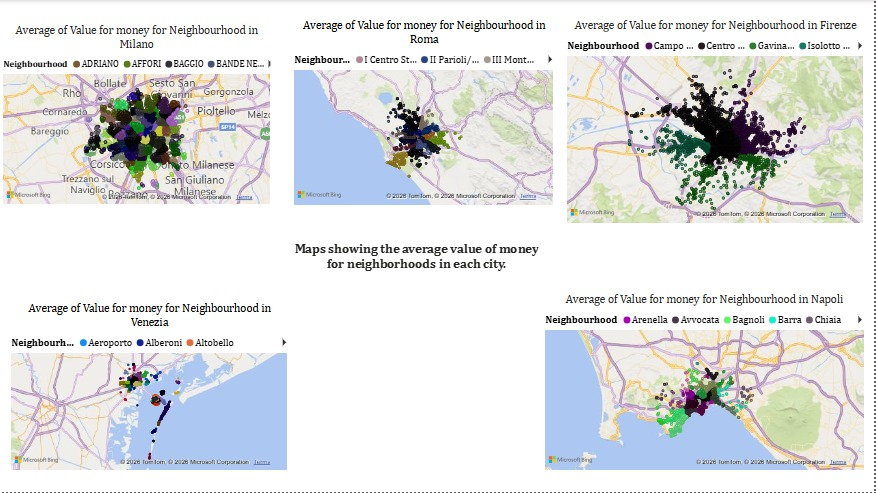

The page's visual inventory and layout, read from the dashboard file:
{"tool":"powerbi","page":{"name":"Page 5","canvas":[1280,720],"ordinal":4},"visuals":[{"type":"map","title":"Average of Value for money for Neighbourhood in Milano","fields":{"Series":["Airbnb.Neighbourhood"],"Y":["Airbnb.LATITUDE"],"X":["Airbnb.LONGITUDE"]},"box":[0,33.7,399.5,270.7],"z":0},{"type":"map","title":"Average of Value for money for  Neighbourhood in Napoli","fields":{"Series":["Airbnb.Neighbourhood"],"Y":["Airbnb.LATITUDE"],"X":["Airbnb.LONGITUDE"]},"box":[793.2,427.3,475.6,264.9],"z":1000},{"type":"map","title":"Average of Value for money for  Neighbourhood in Roma ","fields":{"Series":["Airbnb.Neighbourhood"],"Y":["Airbnb.LATITUDE"],"X":["Airbnb.LONGITUDE"]},"box":[425.9,26.3,389.3,278],"z":2000},{"type":"map","title":"Average of Value for money for  Neighbourhood in Venezia","fields":{"Series":["Airbnb.Neighbourhood"],"Y":["Airbnb.LATITUDE"],"X":["Airbnb.LONGITUDE"]},"box":[11.7,440.5,414.1,251.7],"z":3000},{"type":"map","title":"Average of Value for money for  Neighbourhood in Firenze","fields":{"Series":["Airbnb.Neighbourhood"],"Y":["Airbnb.LATITUDE"],"X":["Airbnb.LONGITUDE"]},"box":[825.4,26.3,443.4,304.4],"z":4000},{"type":"textbox","box":[425.9,330.7,367.3,96.6],"z":5000}]}

Visuals, with their boxes in screenshot pixels (x1, y1, x2, y2), scaled from the page's 1280x720 canvas onto the 876x493 screenshot:
"Average of Value for money for Neighbourhood in Milano" map: [0,23,273,208]
"Average of Value for money for  Neighbourhood in Napoli" map: [543,293,868,474]
"Average of Value for money for  Neighbourhood in Roma " map: [291,18,558,208]
"Average of Value for money for  Neighbourhood in Venezia" map: [8,302,291,474]
"Average of Value for money for  Neighbourhood in Firenze" map: [565,18,868,226]
textbox: [291,226,543,293]
